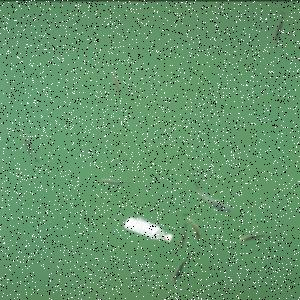Plastic-bottle: (125, 217, 175, 243)
